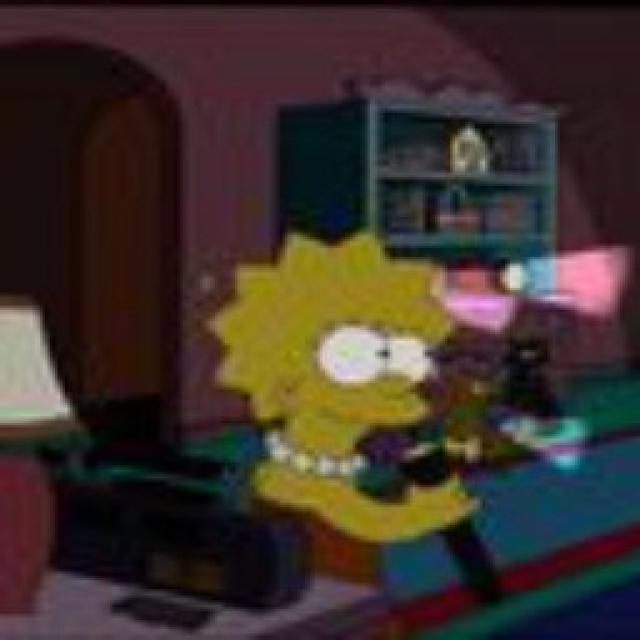Lisa Simpson: (209, 232, 471, 468)
